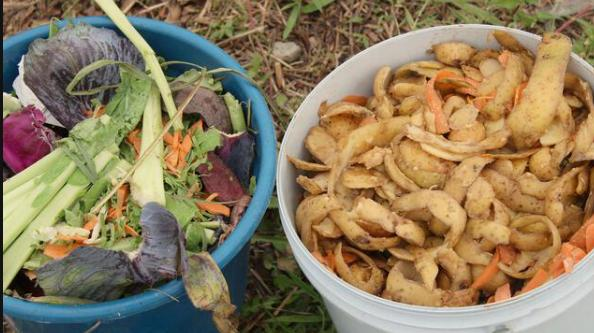organic: (61, 69, 153, 183), (173, 213, 241, 332), (316, 95, 412, 175), (32, 246, 141, 301), (390, 188, 468, 249), (499, 215, 562, 278), (404, 125, 511, 160), (217, 90, 254, 187), (68, 59, 154, 98), (163, 189, 218, 242), (332, 242, 386, 295), (383, 262, 445, 306), (442, 156, 494, 206), (542, 167, 586, 224), (295, 194, 336, 250), (566, 86, 594, 164), (528, 145, 565, 182), (169, 67, 218, 94), (189, 124, 222, 162), (431, 41, 476, 67), (491, 29, 534, 56), (475, 264, 511, 294), (394, 60, 446, 79), (448, 106, 482, 131), (286, 154, 331, 172), (294, 173, 327, 195), (389, 81, 426, 98), (479, 68, 507, 90), (397, 94, 424, 116), (84, 214, 102, 244), (483, 115, 506, 136), (64, 205, 84, 228), (564, 93, 584, 108), (317, 99, 329, 118)
